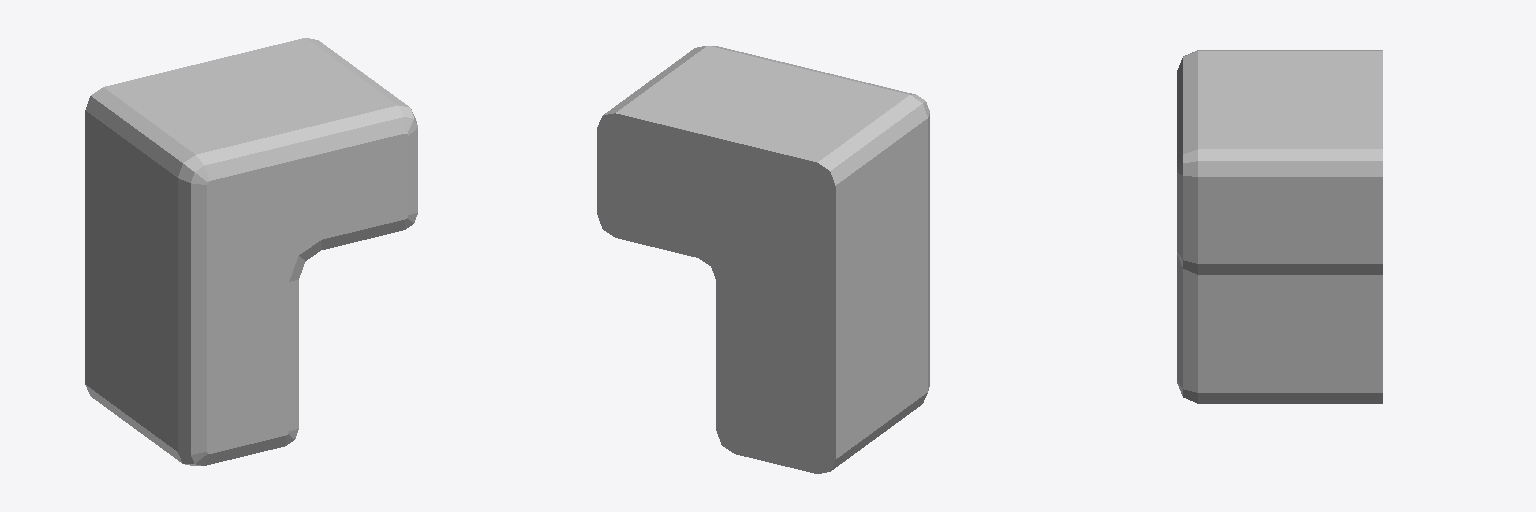
Rendered from 100_RightL.obj.
The picture shows the model from 3 angles: view 1: azimuth 30°, elevation 25°; view 2: azimuth 150°, elevation 25°; view 3: azimuth 270°, elevation 25°; orthographic projection.
Visible parts, largest first — view 1: RightL_Plane.860; view 2: RightL_Plane.860; view 3: RightL_Plane.860.
Part boxes in pixels (bbox=[...]): RightL_Plane.860: bbox=[85, 38, 417, 465]; RightL_Plane.860: bbox=[597, 46, 929, 473]; RightL_Plane.860: bbox=[1177, 50, 1382, 403].
Bounding box in the file's own units: 4 × 5 × 3.